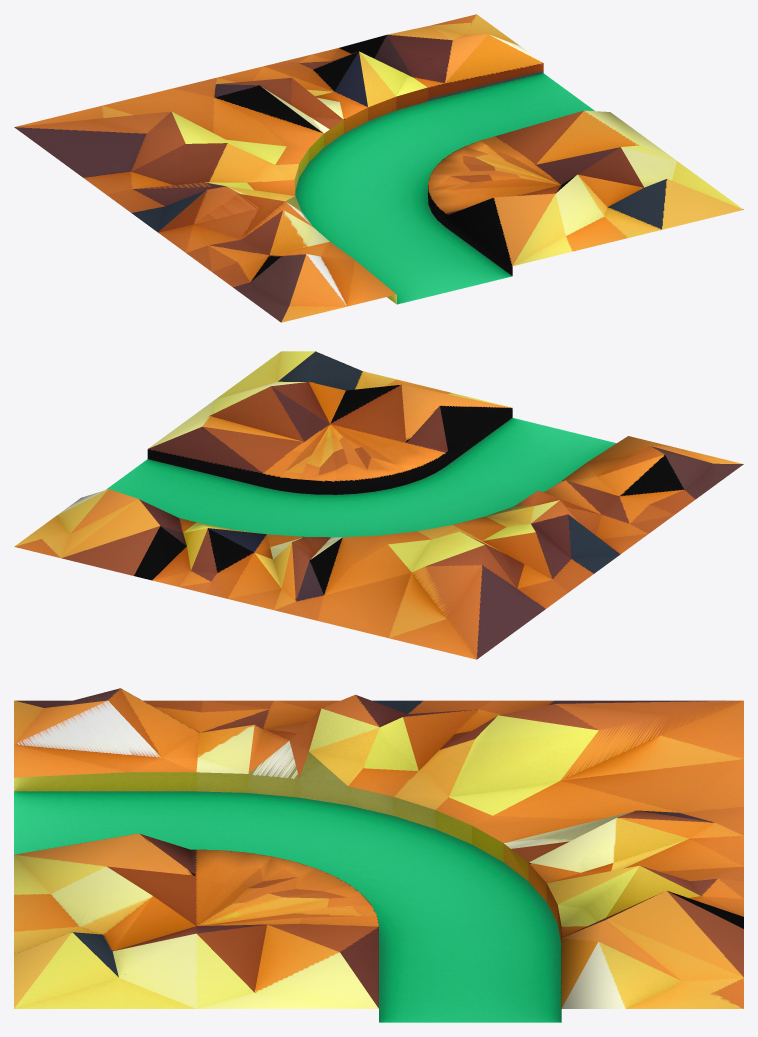
The model's file is corner_m.fbx.
3 renders of one model, top to bottom at view 1: azimuth 30°, elevation 25°; view 2: azimuth 150°, elevation 25°; view 3: azimuth 270°, elevation 25°, orthographic. The views are drawn at different scales.
Parts seen in each view (by area): view 1: corner_m; view 2: corner_m; view 3: corner_m.
Boxes of the visible parts, x1,y1,x2,y2 form: corner_m: (14,14,743,322); corner_m: (14,351,743,659); corner_m: (14,688,743,1022).
Bounding box in the file's own units: 96 × 7.76 × 96.
